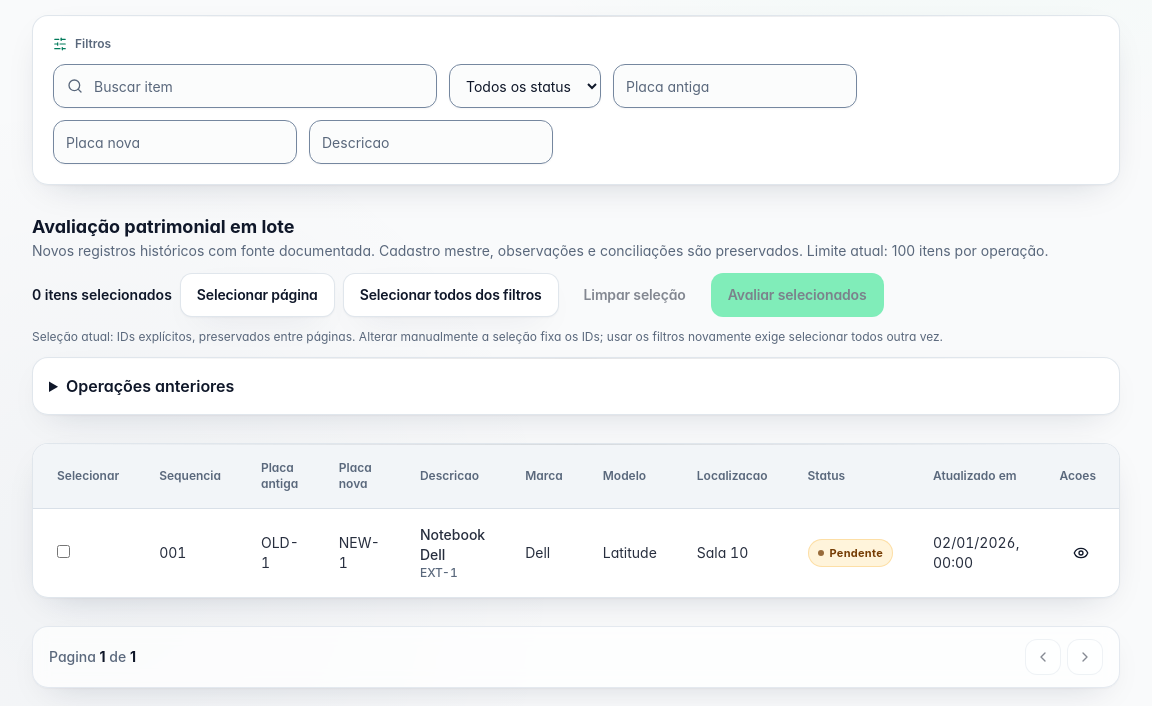
it: ProjectInventoryItemsPage › detalhe renderiza dados principais
(page scrolled)
Click the button named "Visualizar item".
click(1082, 553)  # box top-left (1060, 531), bottom-right (1104, 575)
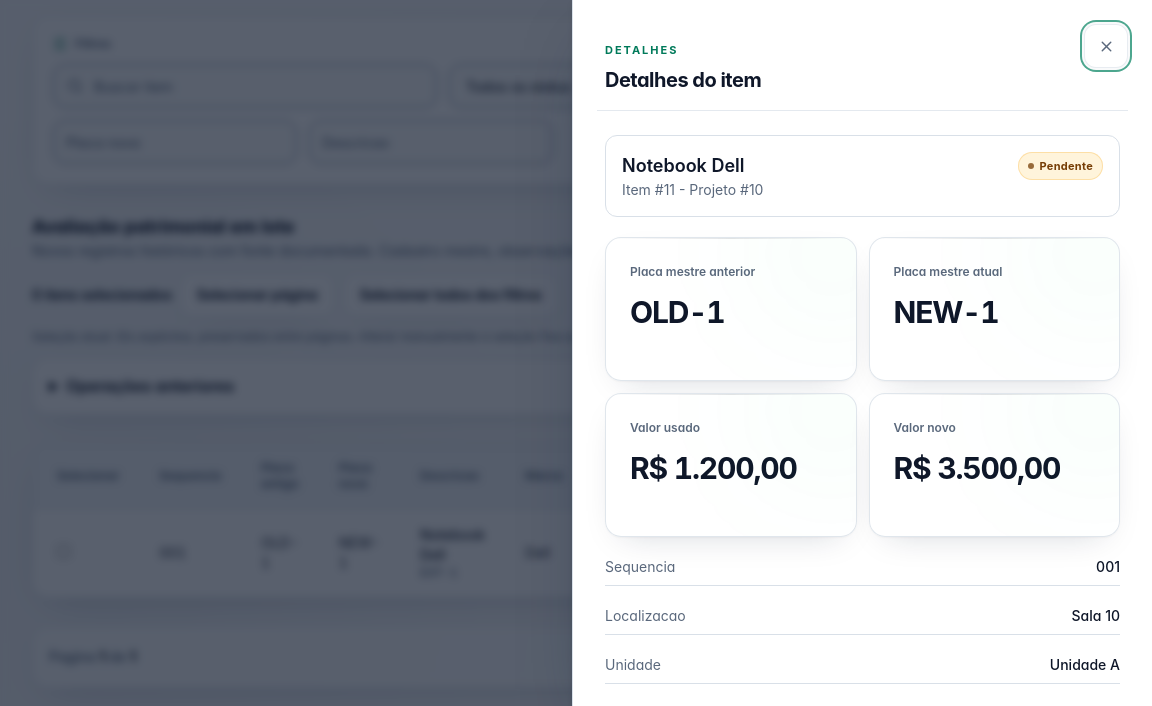
Expected: the text "Sala 10" is shown, top-left (677, 509), bottom-right (788, 597)
Result: the text "Item #11 - Projeto #10" is shown at top-left (622, 180), bottom-right (764, 200)
